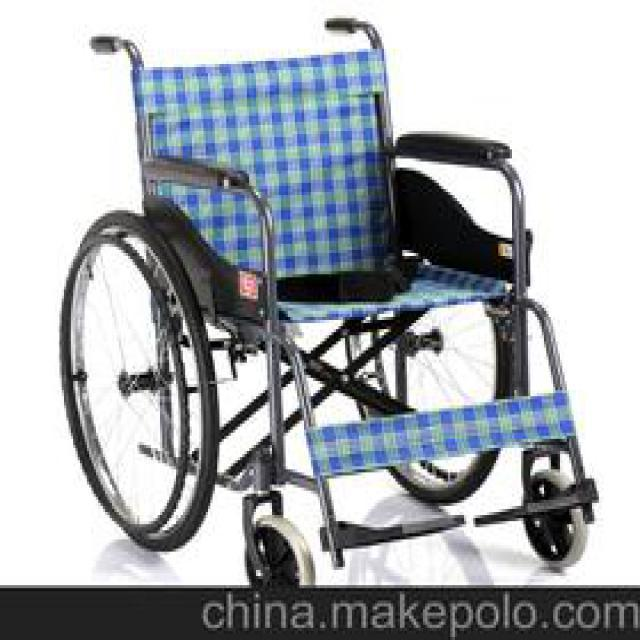wheelchairs: (59, 14, 596, 584)
